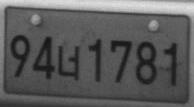1: (160, 41, 183, 86), (85, 38, 107, 82)
4: (31, 35, 55, 80)
7: (109, 39, 132, 82)
8: (135, 40, 157, 85)
9: (9, 33, 30, 78)
너: (57, 44, 80, 80)
